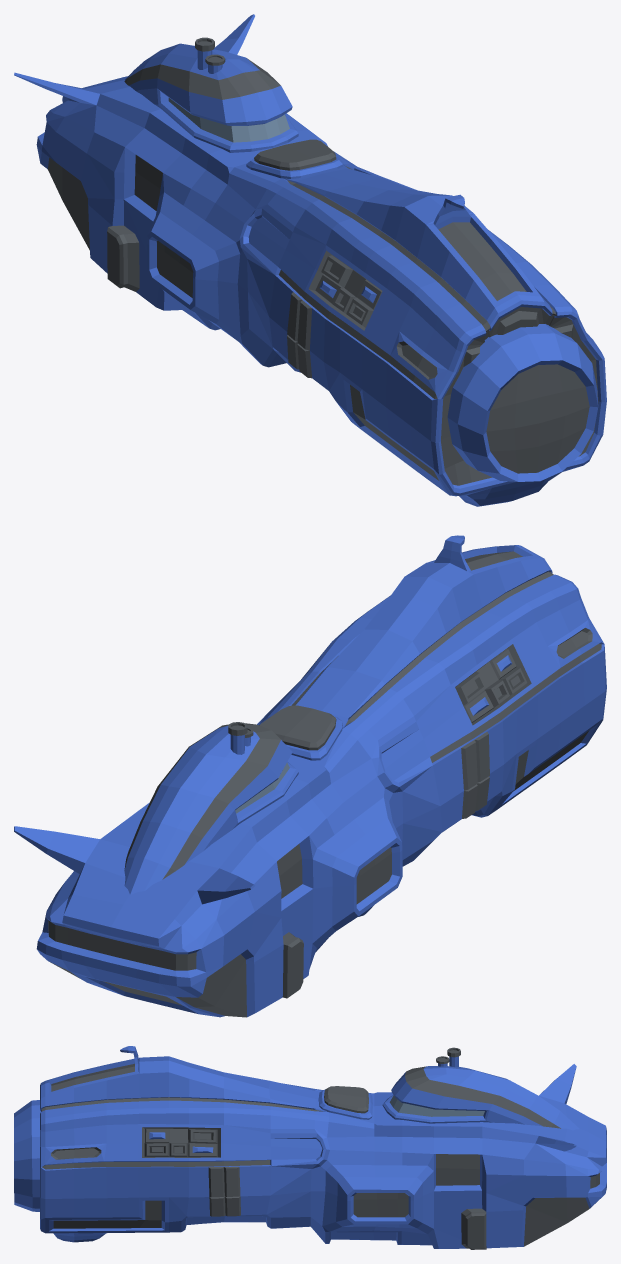
The model's file is Dropship_05__Blue.fbx.
3 renders of one model, top to bottom at view 1: azimuth 30°, elevation 25°; view 2: azimuth 150°, elevation 25°; view 3: azimuth 270°, elevation 25°, orthographic. The views are drawn at different scales.
Parts seen in each view (by area): view 1: Dropship_05__Blue; view 2: Dropship_05__Blue; view 3: Dropship_05__Blue.
Boxes of the visible parts, <box> form: Dropship_05__Blue: <box>14,14,606,506</box>; Dropship_05__Blue: <box>14,535,606,1017</box>; Dropship_05__Blue: <box>14,1046,606,1249</box>.
Size of the model in its own units: 545 by 575 by 1683.
Materials: 3 (3 with a texture image).
